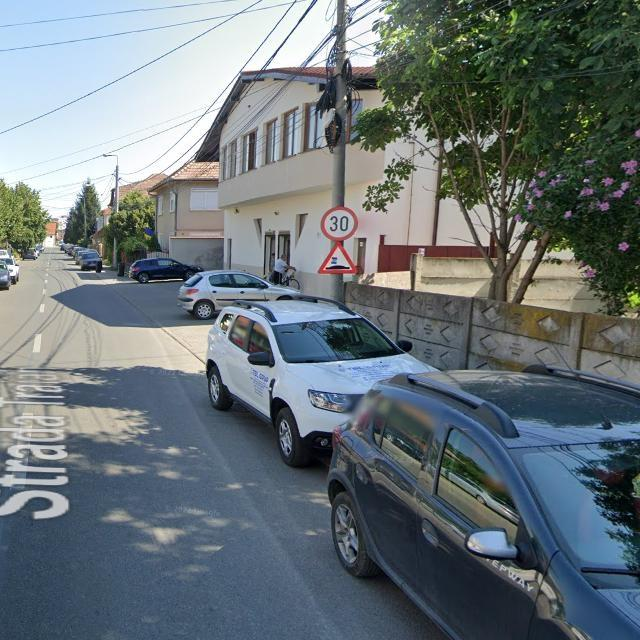forb_speed_over_30: (322, 206, 358, 241)
